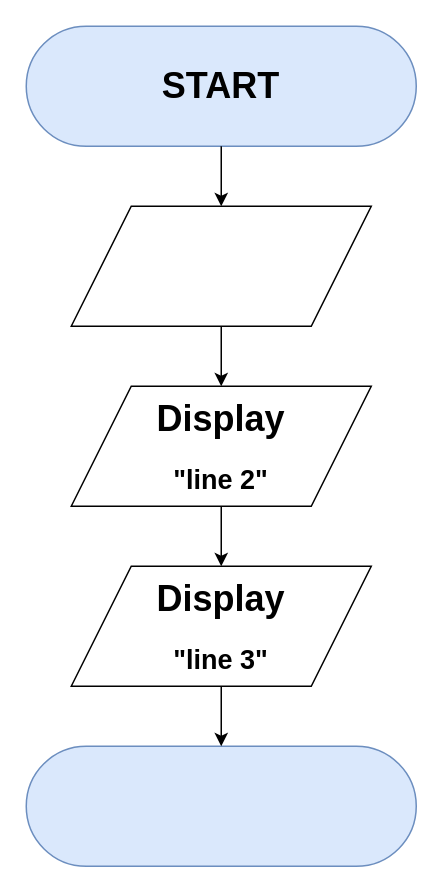
Some shapes in this 443 by 893 pixel diagram are drawn without their labels. Each missing label, with the centre of its shape:
Display "line 1": pixel 220 265
END: pixel 220 805
